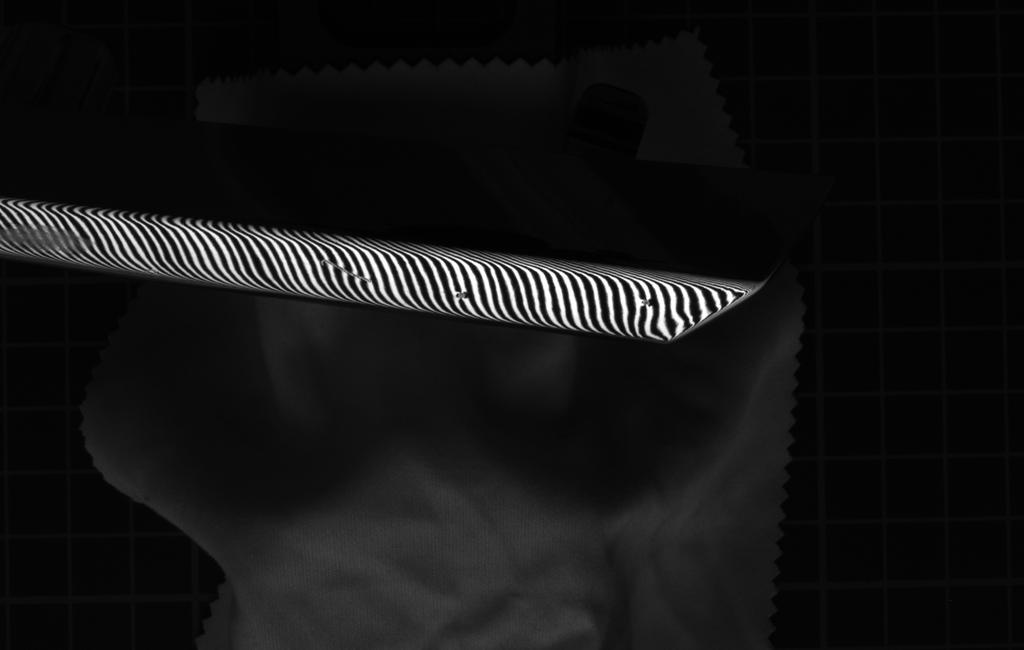Pierced: (638, 293, 660, 312), (452, 287, 475, 303)
Pitting: (1, 214, 101, 262)
Scratch: (318, 254, 380, 287)
